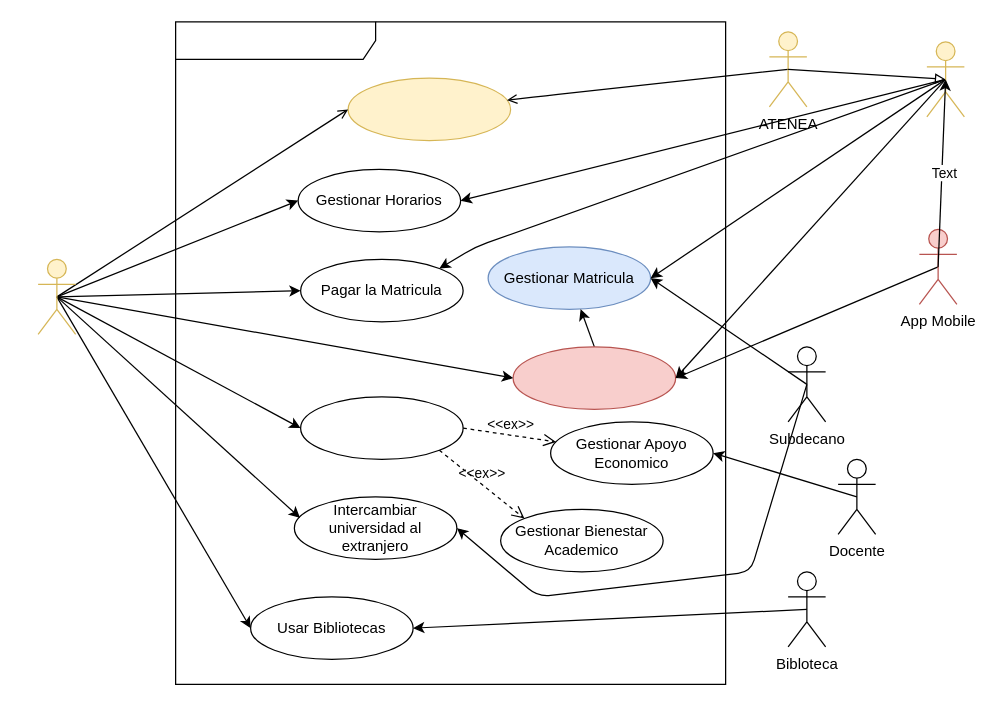
Image size: 998x706. Some labels were removed from this diagram. Each missing label, with the box of its shape:
EPN: (174, 21, 726, 684)
Estudiante: (37, 258, 76, 334)
Gestionar cita de servicio academico: (299, 396, 463, 459)
SAEW: (926, 41, 964, 117)
Tramitar Cetificados Academicos: (347, 77, 511, 141)
Visualizar Datos Estudiantil: (512, 346, 676, 409)
